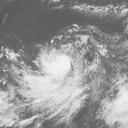cyclone: (26, 48, 87, 107)
